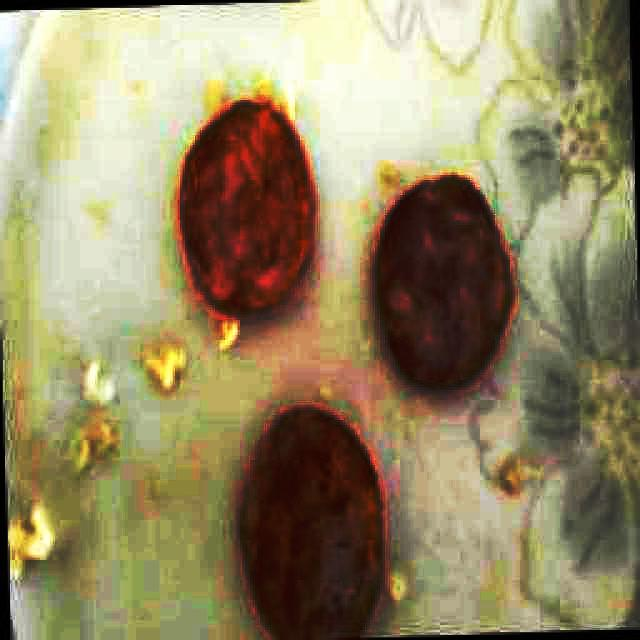chinese_sausage: (239, 410, 383, 640), (376, 175, 511, 390), (182, 100, 312, 316)
